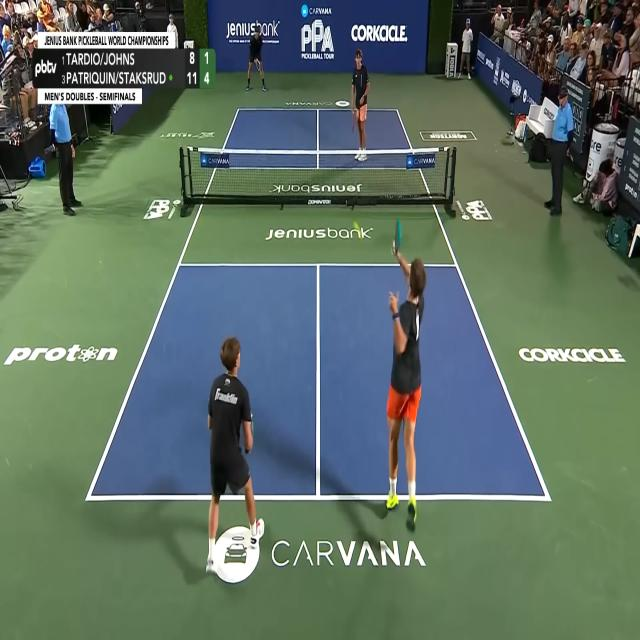ball: (352, 221, 358, 230)
